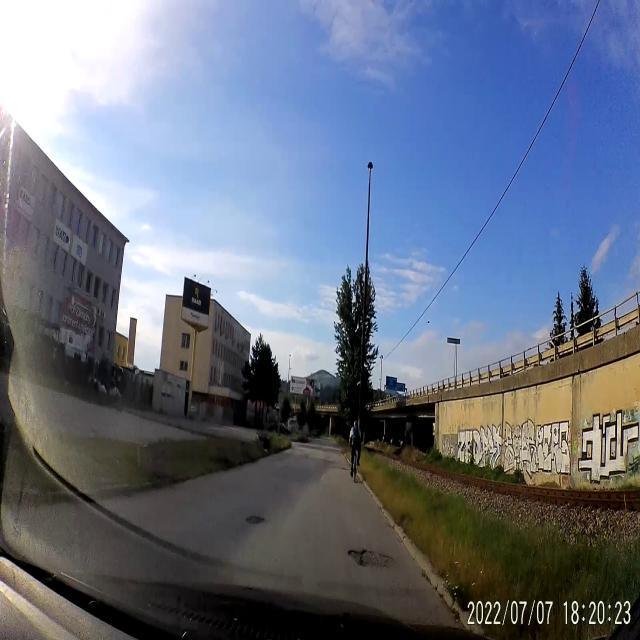Pothole: (343, 543, 398, 581), (246, 515, 269, 529)
